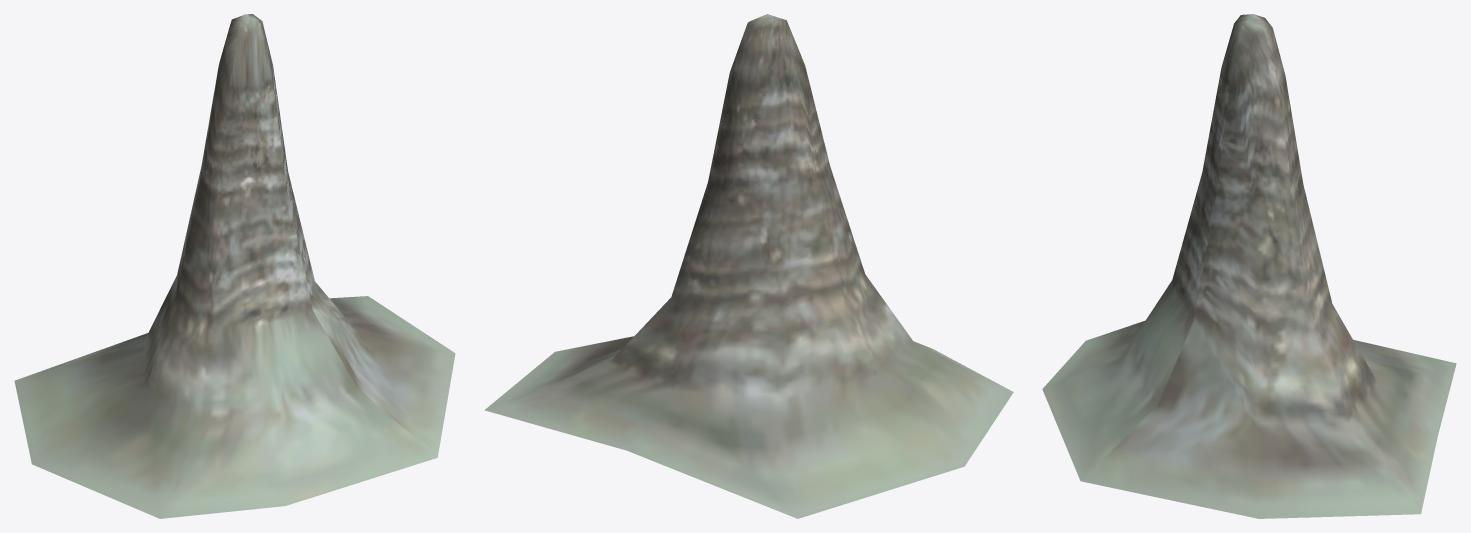
The model's file is TROLLHOLE02_PS-UPPERSTALAG06.fbx.
3 views of the same model, side by side, from view 1: azimuth 30°, elevation 25°; view 2: azimuth 150°, elevation 25°; view 3: azimuth 270°, elevation 25° (orthographic). The views are drawn at different scales.
Visible parts, largest first — view 1: TROLLHOLE02_PS-UPPERSTALAG06; view 2: TROLLHOLE02_PS-UPPERSTALAG06; view 3: TROLLHOLE02_PS-UPPERSTALAG06.
Boxes of the visible parts, box(x1,y1,x2,y2) form: TROLLHOLE02_PS-UPPERSTALAG06: box(14, 14, 455, 518); TROLLHOLE02_PS-UPPERSTALAG06: box(484, 14, 1013, 518); TROLLHOLE02_PS-UPPERSTALAG06: box(1042, 14, 1456, 518).
Bounding box in the file's own units: 17052 × 15823 × 14341.
Materials: 1 (1 with a texture image).
